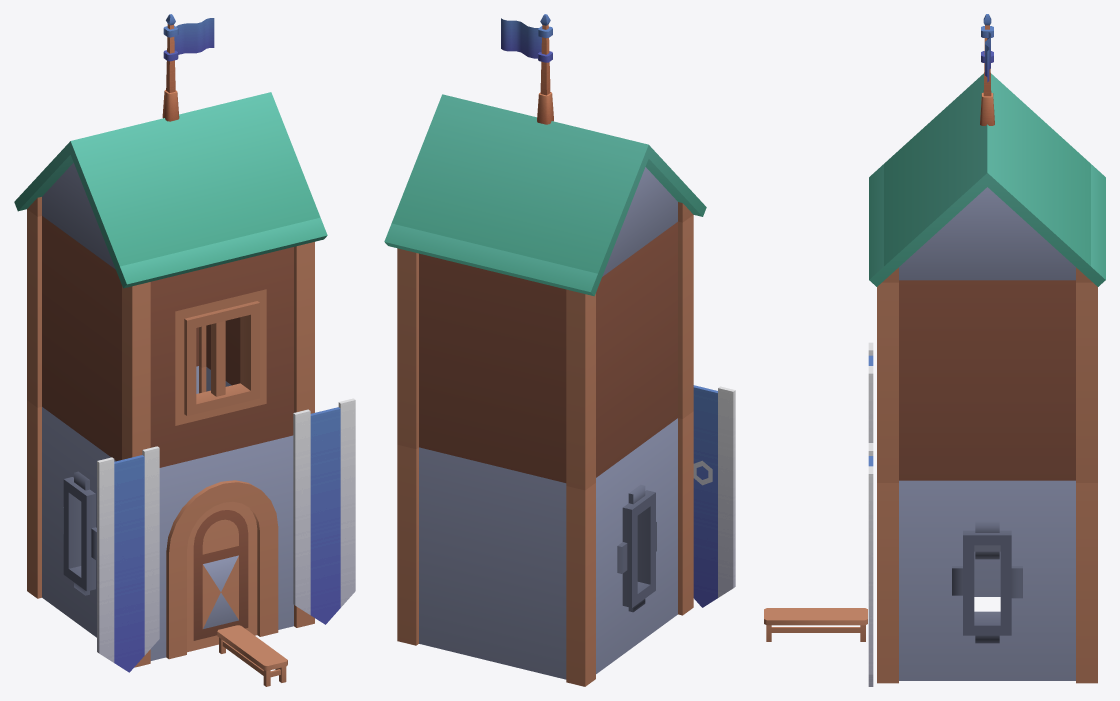
Rendered from barracks_3.glb.
The picture shows the model from 3 angles, left to right: view 1: azimuth 30°, elevation 25°; view 2: azimuth 150°, elevation 25°; view 3: azimuth 270°, elevation 25°; orthographic projection. The views are drawn at different scales.
Visible parts, largest first — view 1: barracks_3; view 2: barracks_3; view 3: barracks_3.
Boxes of the visible parts, x1,y1,x2,y2 form: barracks_3: (14,14,355,686); barracks_3: (384,14,735,686); barracks_3: (764,14,1105,686).
Size of the model in its own units: 1.12 by 2.48 by 1.24.
13 materials, 13 textured.
